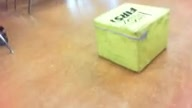cube: (94, 2, 171, 73)
